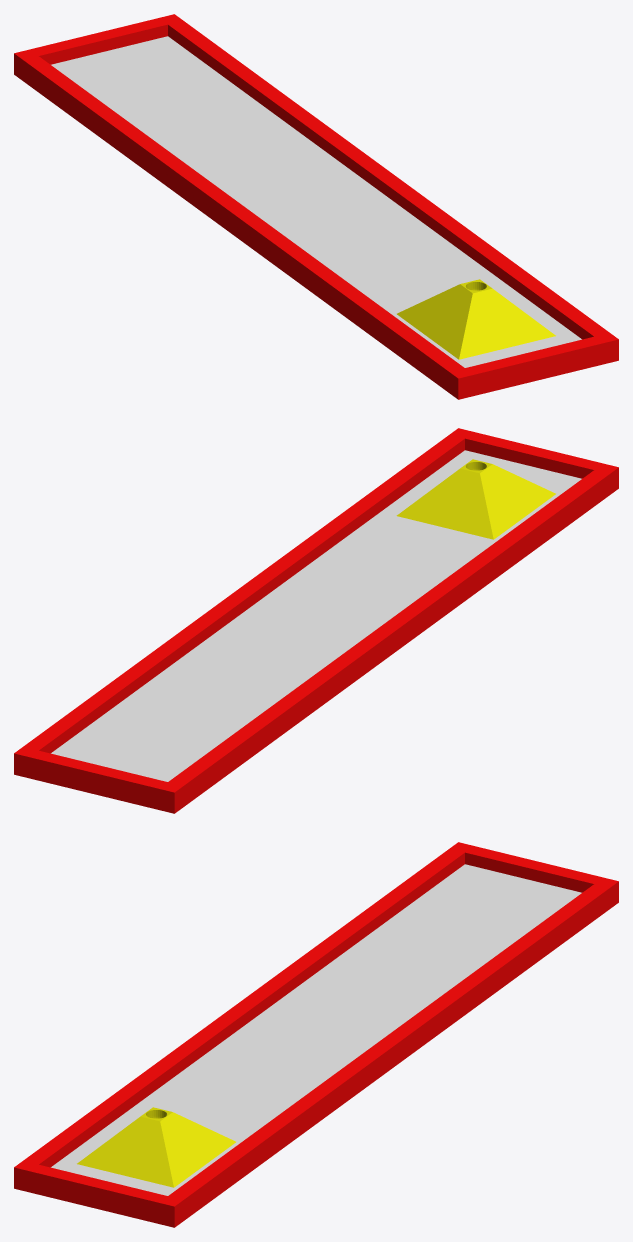
Rendered from BahnF1.fbx.
The picture shows the model from 3 angles, top to bottom: view 1: azimuth 30°, elevation 25°; view 2: azimuth 150°, elevation 25°; view 3: azimuth 330°, elevation 25°; orthographic projection.
Visible parts, largest first — view 1: BahnF1; view 2: BahnF1; view 3: BahnF1.
Boxes of the visible parts, box(x1,y1,x2,y2) form: BahnF1: box(14, 14, 618, 399); BahnF1: box(14, 428, 618, 813); BahnF1: box(14, 842, 618, 1227).
Size of the model in its own units: 87 by 25 by 417.
